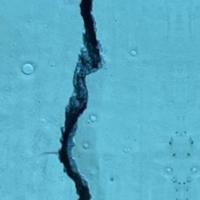crack: (37, 0, 110, 199)
